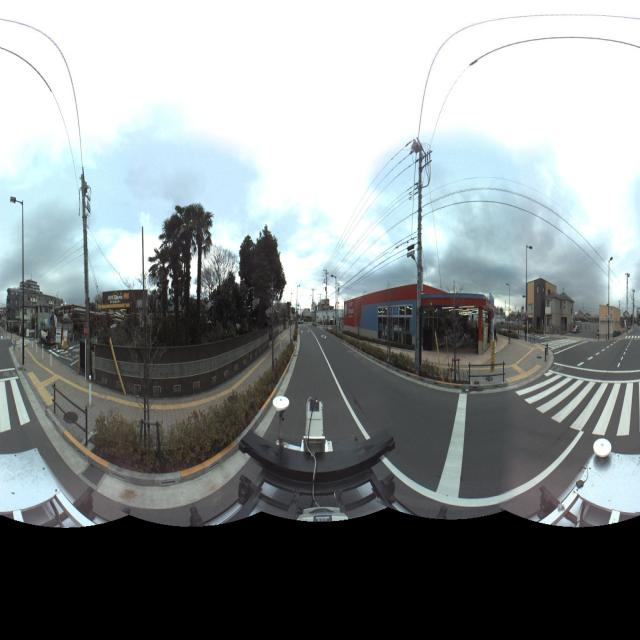b_1: (3, 275, 64, 332), (540, 277, 582, 350), (524, 270, 550, 334)
